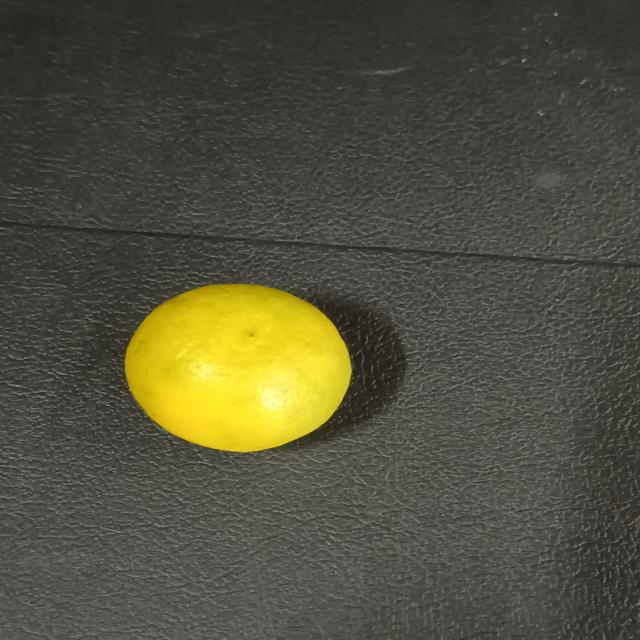greening: (122, 278, 361, 455)
